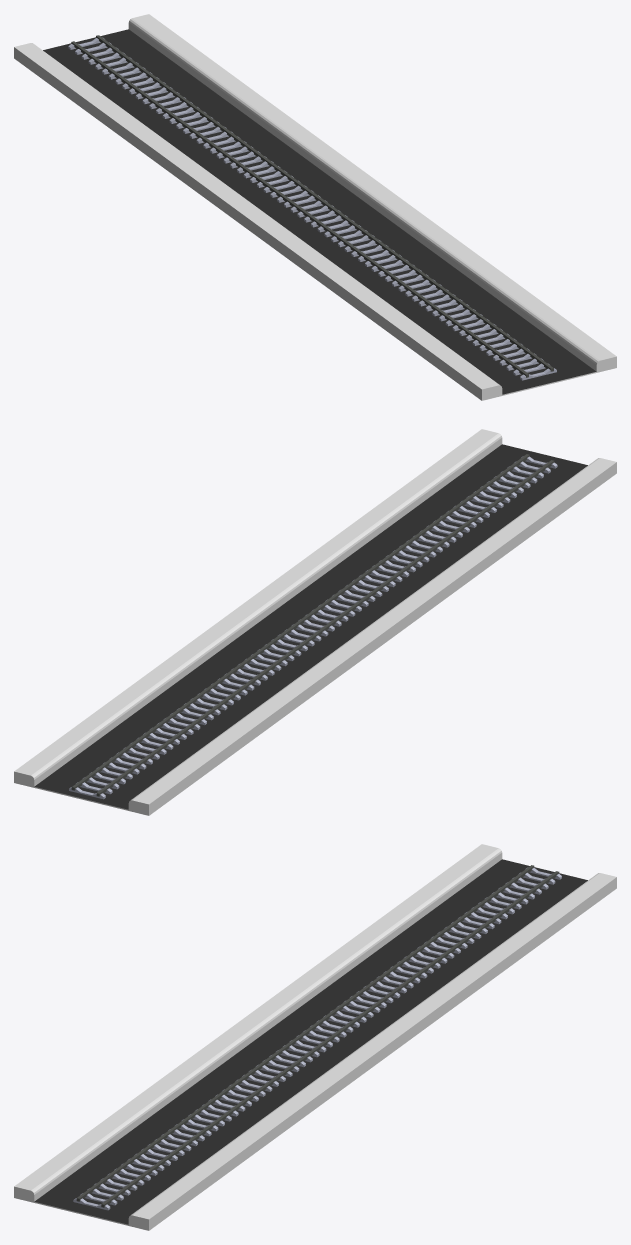
Rendered from Railway.fbx.
The picture shows the model from 3 angles, top to bottom: view 1: azimuth 30°, elevation 25°; view 2: azimuth 150°, elevation 25°; view 3: azimuth 330°, elevation 25°; orthographic projection.
Visible parts, largest first — view 1: Raiway; view 2: Raiway; view 3: Raiway.
Boxes of the visible parts, x1,y1,x2,y2 form: Raiway: (14,14,616,400); Raiway: (14,429,616,815); Raiway: (14,844,616,1230).
Size of the model in its own units: 200 by 16.27 by 1200.
